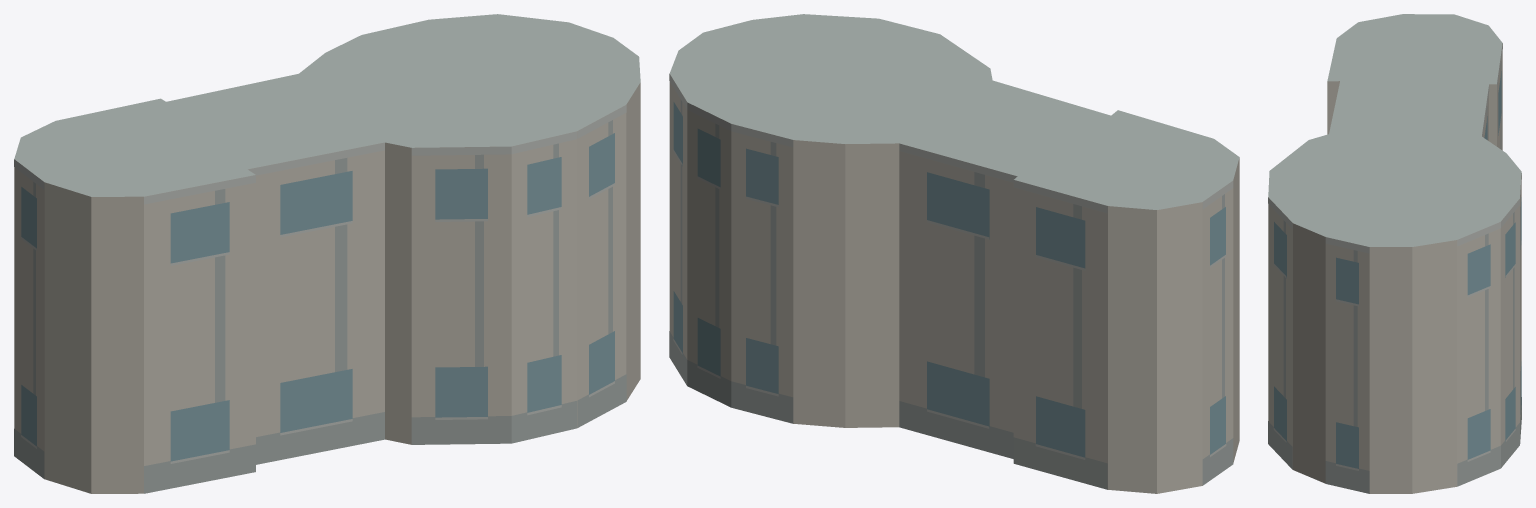
Rendered from survey-upis-32538377.glb.
3 renders of one model, left to right at view 1: azimuth 30°, elevation 25°; view 2: azimuth 150°, elevation 25°; view 3: azimuth 270°, elevation 25°, orthographic. The views are drawn at different scales.
Parts seen in each view (by area): view 1: survey-upis-32538377.tmp; view 2: survey-upis-32538377.tmp; view 3: survey-upis-32538377.tmp.
Boxes of the visible parts, x1=… form: survey-upis-32538377.tmp: x1=14, y1=14, x2=640, y2=493; survey-upis-32538377.tmp: x1=669, y1=14, x2=1239, y2=493; survey-upis-32538377.tmp: x1=1268, y1=14, x2=1521, y2=493.
Bounding box in the file's own units: 18.54 × 9.15 × 8.53.
